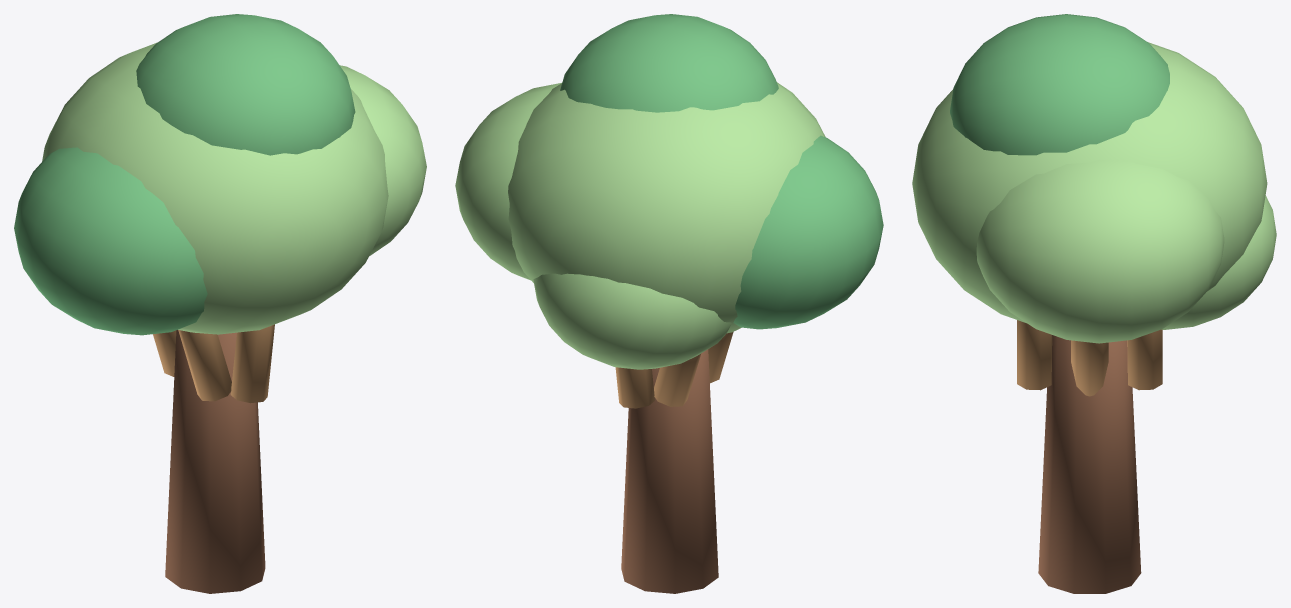
The model's file is tree_fantasy.glb.
The picture shows the model from 3 angles, left to right: view 1: azimuth 30°, elevation 25°; view 2: azimuth 150°, elevation 25°; view 3: azimuth 270°, elevation 25°; orthographic projection. The views are drawn at different scales.
Visible parts, largest first — view 1: Tree_Canopy_00, Tree_Canopy_01, Tree_Canopy_03, Tree_Trunk, Tree_Canopy_02, Tree_Branch_01, Tree_Branch_02, Tree_Branch_03; view 2: Tree_Canopy_00, Tree_Canopy_01, Tree_Trunk, Tree_Canopy_03, Tree_Canopy_04, Tree_Canopy_02, Tree_Branch_03, Tree_Branch_04, Tree_Branch_02; view 3: Tree_Canopy_02, Tree_Canopy_00, Tree_Canopy_03, Tree_Trunk, Tree_Canopy_04, Tree_Branch_01, Tree_Branch_04, Tree_Branch_00.
Part boxes in pixels (box(x1,y1,x2,y2)): Tree_Canopy_00: box(42, 42, 388, 334); Tree_Canopy_01: box(14, 147, 207, 335); Tree_Canopy_03: box(136, 14, 355, 155); Tree_Trunk: box(165, 330, 265, 593); Tree_Canopy_02: box(340, 65, 426, 255); Tree_Branch_01: box(230, 324, 274, 403); Tree_Branch_02: box(178, 330, 231, 401); Tree_Branch_03: box(153, 330, 176, 376); Tree_Canopy_00: box(508, 82, 825, 333); Tree_Canopy_01: box(733, 135, 883, 329); Tree_Trunk: box(621, 349, 718, 593); Tree_Canopy_03: box(560, 14, 778, 112); Tree_Canopy_04: box(533, 273, 731, 369); Tree_Canopy_02: box(455, 83, 561, 280); Tree_Branch_03: box(654, 353, 701, 406); Tree_Branch_04: box(615, 367, 654, 408); Tree_Branch_02: box(708, 332, 733, 383); Tree_Canopy_02: box(976, 159, 1224, 343); Tree_Canopy_00: box(912, 42, 1267, 323); Tree_Canopy_03: box(950, 14, 1169, 155); Tree_Trunk: box(1038, 335, 1141, 593); Tree_Canopy_04: box(1161, 195, 1276, 329); Tree_Branch_01: box(1017, 320, 1052, 390); Tree_Branch_04: box(1127, 329, 1162, 390); Tree_Branch_00: box(1071, 340, 1108, 396).
Bounding box in the file's own units: 4.87 × 6.52 × 3.9.
